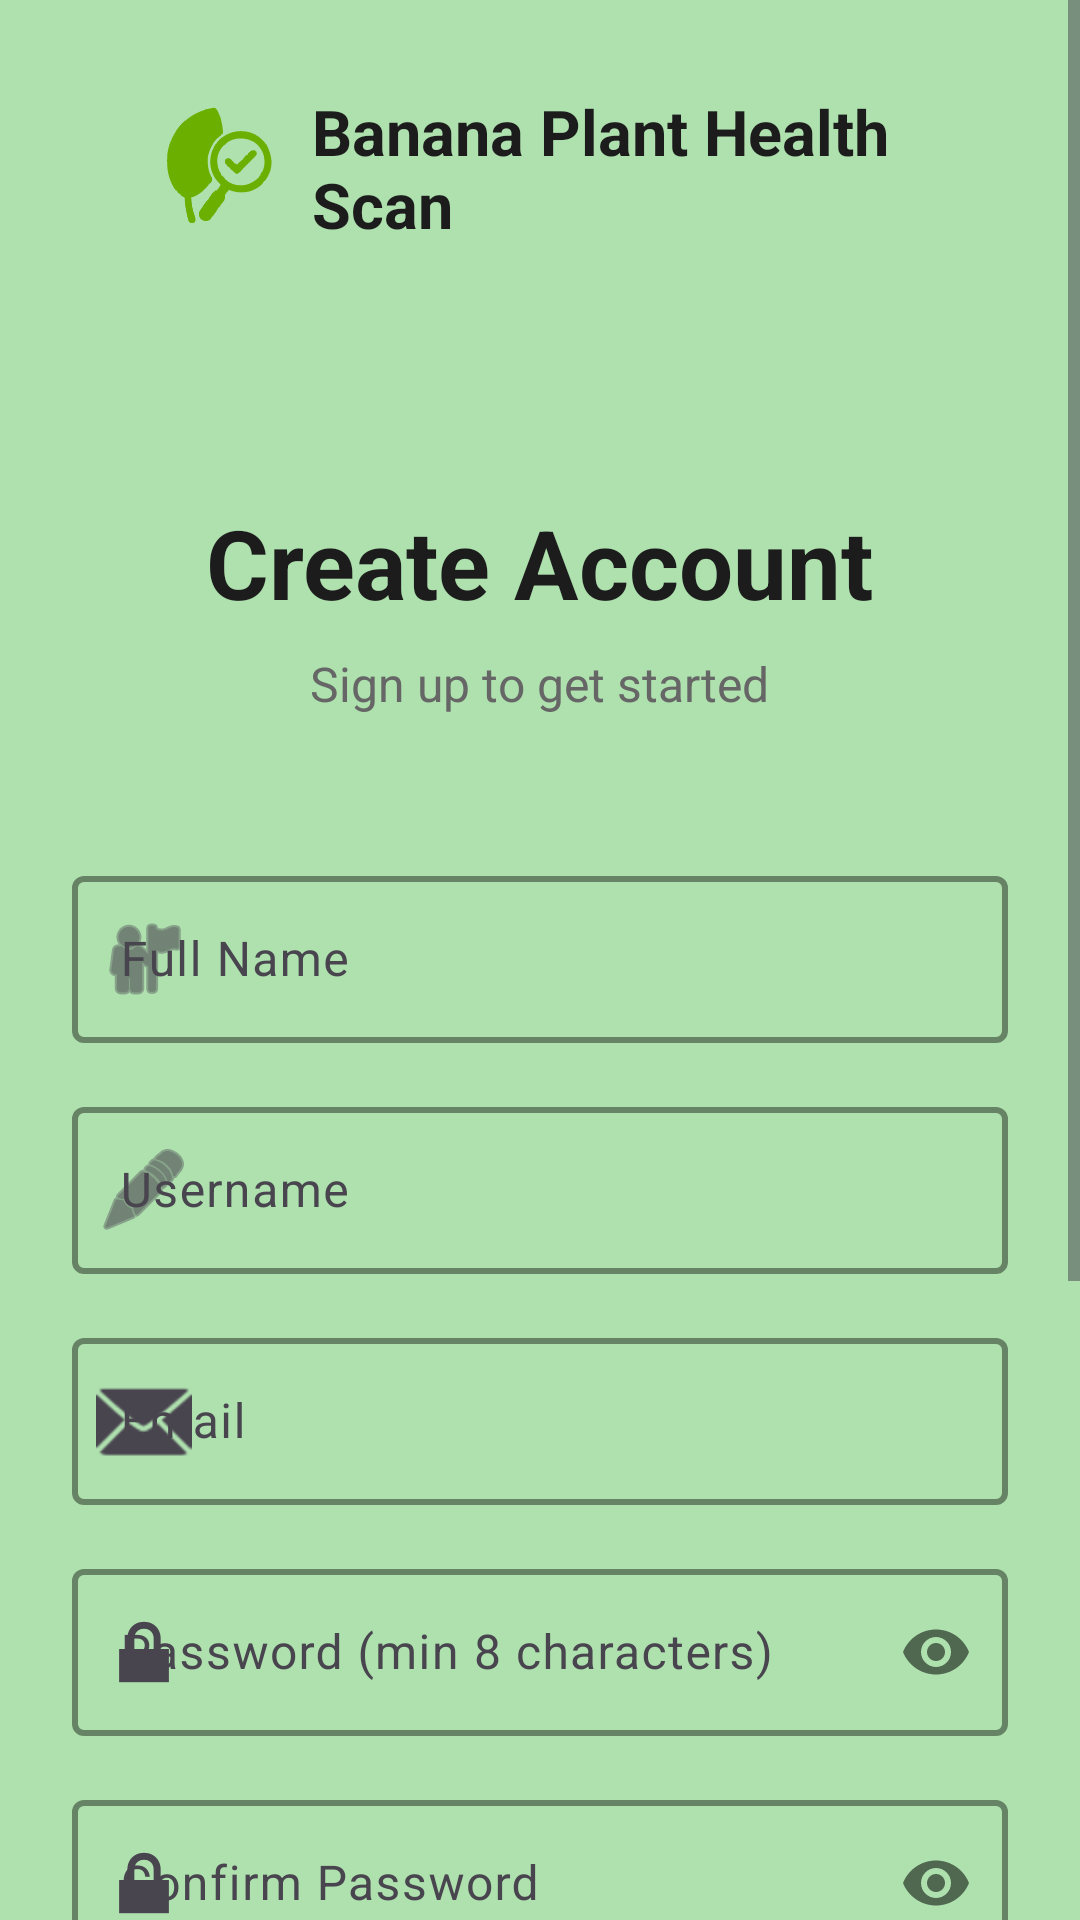

Screen size 1080w x 1920h. Icon name, then its center in pixels as point (x, y):
magnify leaf: point (219, 165)
